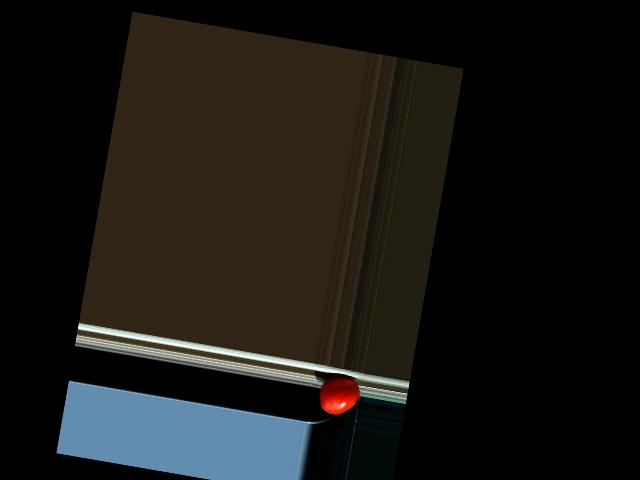tomato: (316, 373, 361, 418)
